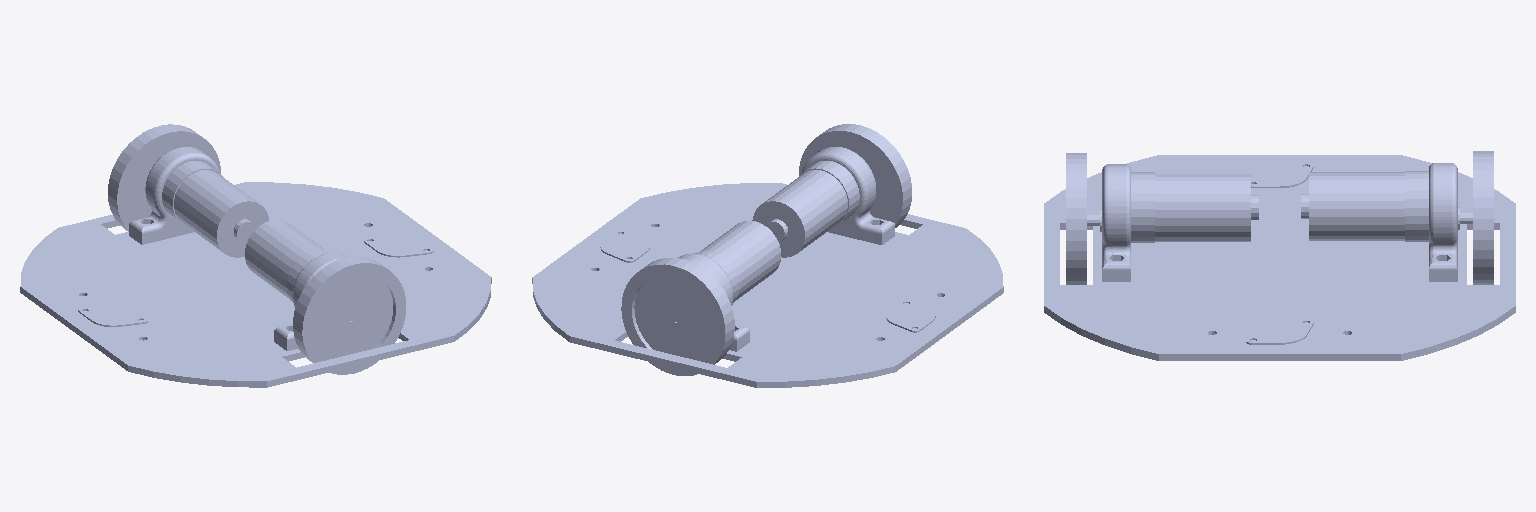
URDF robot description (ASM_Ver_1.SLDASM):
<?xml version="1.0" encoding="utf-8"?>
<!-- This URDF was automatically created by SolidWorks to URDF Exporter! Originally created by [author] ([email redacted]) 
     Commit Version: 1.6.0-4-g7f85cfe  Build Version: 1.6.7995.38578
     For more information, please see http://wiki.ros.org/sw_urdf_exporter -->
<robot
  name="ASM_Ver_1.SLDASM">
  <link
    name="base">
    <inertial>
      <origin
        xyz="0.00031852933106863 -1.41722334329578E-17 0.014039384118002"
        rpy="0 0 0" />
      <mass
        value="2.86887905675632" />
      <inertia
        ixx="0.00701430456479313"
        ixy="6.49057843002293E-07"
        ixz="9.62498131468153E-21"
        iyy="0.00708890607420914"
        iyz="-2.44389734131054E-21"
        izz="0.0138932762091189" />
    </inertial>
    <visual>
      <origin
        xyz="0 0 0"
        rpy="0 0 0" />
      <geometry>
        <mesh
          filename="package://ASM_Ver_1.SLDASM/meshes/base.STL" />
      </geometry>
      <material
        name="">
        <color
          rgba="0.792156862745098 0.819607843137255 0.933333333333333 1" />
      </material>
    </visual>
    <collision>
      <origin
        xyz="0 0 0"
        rpy="0 0 0" />
      <geometry>
        <mesh
          filename="package://ASM_Ver_1.SLDASM/meshes/base.STL" />
      </geometry>
    </collision>
  </link>
  <link
    name="left_wheel">
    <inertial>
      <origin
        xyz="0.0025901 -0.211 0"
        rpy="0 0 0" />
      <mass
        value="0.2139" />
      <inertia
        ixx="7.9925E-05"
        ixy="3.1451E-24"
        ixz="-1.6769E-22"
        iyy="0.00015706"
        iyz="-1.3278E-22"
        izz="7.9925E-05" />
    </inertial>
    <visual>
      <origin
        xyz="0 0 0"
        rpy="0 0 0" />
      <geometry>
        <mesh
          filename="package://ASM_Ver_1.SLDASM/meshes/left_wheel.STL" />
      </geometry>
      <material
        name="">
        <color
          rgba="0.79216 0.81961 0.93333 1" />
      </material>
    </visual>
    <collision>
      <origin
        xyz="0 0 0"
        rpy="0 0 0" />
      <geometry>
        <mesh
          filename="package://ASM_Ver_1.SLDASM/meshes/left_wheel.STL" />
      </geometry>
    </collision>
  </link>
  <joint
    name="left_wheel_to_base"
    type="continuous">
    <origin
      xyz="-0.00056881 0.1055 0.024488"
      rpy="0 0 0" />
    <parent
      link="base" />
    <child
      link="left_wheel" />
    <axis
      xyz="0 -1 0" />
  </joint>
  <link
    name="right_wheel">
    <inertial>
      <origin
        xyz="-0.0025901 0.211 0"
        rpy="0 0 0" />
      <mass
        value="0.2139" />
      <inertia
        ixx="7.9925E-05"
        ixy="9.3957E-24"
        ixz="-8.4185E-23"
        iyy="0.00015706"
        iyz="-5.3767E-24"
        izz="7.9925E-05" />
    </inertial>
    <visual>
      <origin
        xyz="0 0 0"
        rpy="0 0 0" />
      <geometry>
        <mesh
          filename="package://ASM_Ver_1.SLDASM/meshes/right_wheel.STL" />
      </geometry>
      <material
        name="">
        <color
          rgba="0.79216 0.81961 0.93333 1" />
      </material>
    </visual>
    <collision>
      <origin
        xyz="0 0 0"
        rpy="0 0 0" />
      <geometry>
        <mesh
          filename="package://ASM_Ver_1.SLDASM/meshes/right_wheel.STL" />
      </geometry>
    </collision>
  </link>
  <joint
    name="right_wheel_to_base"
    type="continuous">
    <origin
      xyz="0.0020213 -0.1055 0.024488"
      rpy="0 0 0" />
    <parent
      link="base" />
    <child
      link="right_wheel" />
    <axis
      xyz="0 1 0" />
  </joint>
</robot>

--- What the picture shows (computed from the rendered views, not written in the file) ---
Views: 3 orthographic renders of the robot side by side, from view 1: azimuth 30°, elevation 25°; view 2: azimuth 150°, elevation 25°; view 3: azimuth 270°, elevation 25°.
Model ASM_Ver_1.SLDASM with 3 links and 2 joints (2 continuous), rooted at base, posed every joint at zero.
Links seen in each view (by area): view 1: base, left_wheel, right_wheel; view 2: base, right_wheel, left_wheel; view 3: base, right_wheel, left_wheel.
Link boxes in pixels (bbox=[...]): base: bbox=[20, 147, 491, 387]; left_wheel: bbox=[293, 256, 405, 374]; right_wheel: bbox=[108, 124, 220, 231]; base: bbox=[532, 147, 1003, 387]; right_wheel: bbox=[621, 258, 734, 375]; left_wheel: bbox=[799, 124, 911, 227]; base: bbox=[1044, 155, 1515, 360]; right_wheel: bbox=[1473, 151, 1493, 284]; left_wheel: bbox=[1066, 153, 1086, 284].
Size in the robot's own frame: 0.244 by 0.244 by 0.07 metres.
3 mesh visuals loaded from 3 distinct referenced files (3 binary STL).